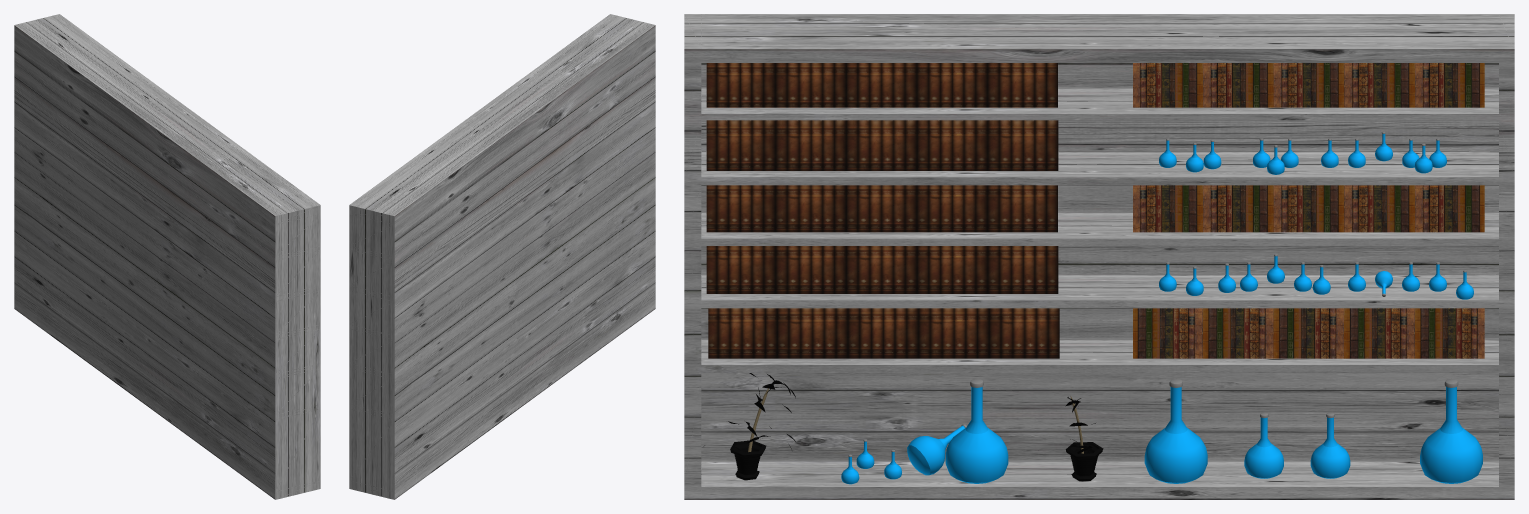
The model's file is archive_bookshelf.fbx.
3 views of the same model, side by side, from view 1: azimuth 30°, elevation 25°; view 2: azimuth 150°, elevation 25°; view 3: azimuth 270°, elevation 25° (orthographic). The views are drawn at different scales.
Parts seen in each view (by area): view 1: Shelf; view 2: Shelf; view 3: Shelf, Books_1, Books_2, Magic_bottles, pot, plant.
Part boxes in pixels (x1,y1,x2,y2): Shelf: (14,14,320,499); Shelf: (349,14,655,499); Shelf: (684,14,1514,499); Books_1: (706,63,1059,358); Books_2: (1133,63,1484,358); Magic_bottles: (841,131,1482,484); pot: (730,440,1103,481); plant: (703,373,1095,453).
Size of the model in its own units: 1.29 by 6.01 by 10.03.
Materials: 8 (3 with a texture image).
